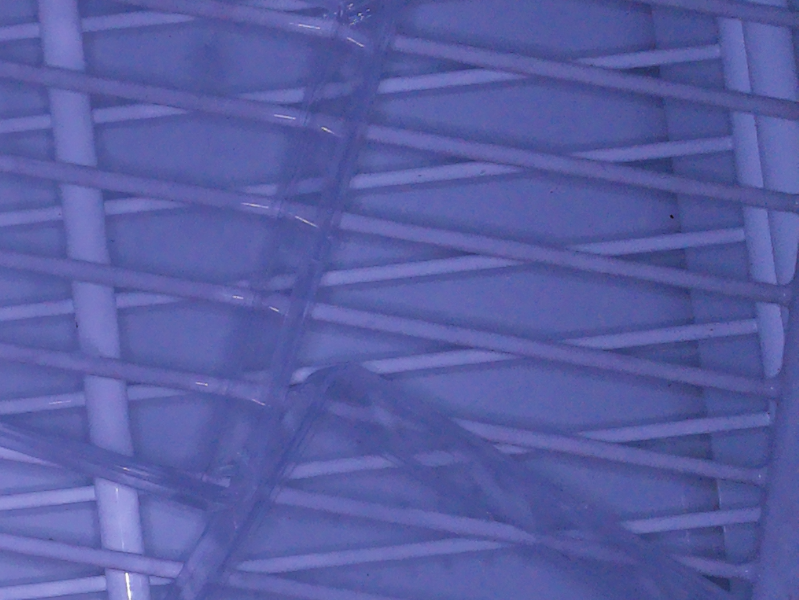plate: (1, 1, 409, 512), (159, 360, 746, 600)
